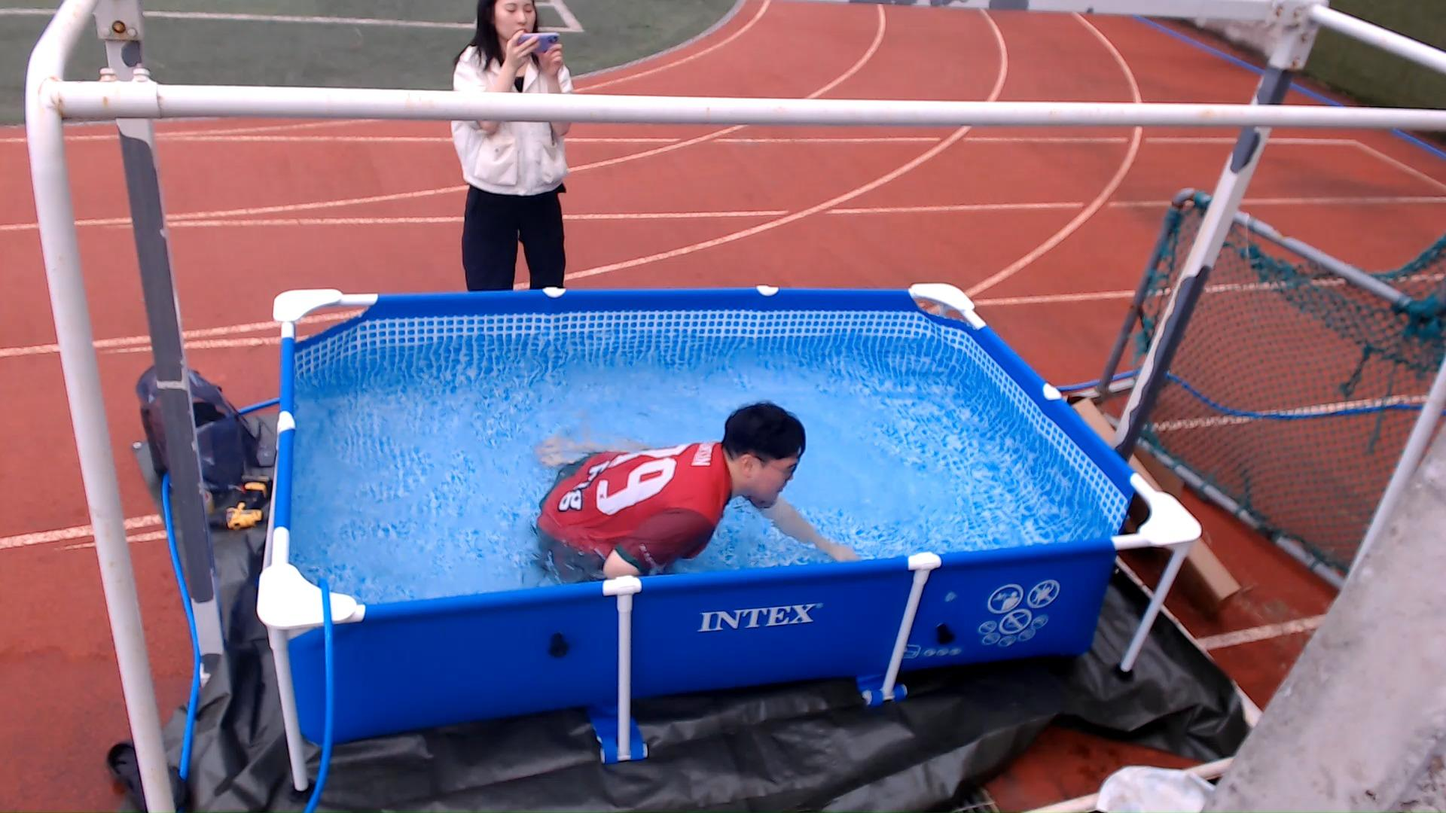Person-out-of-water: (399, 6, 659, 295)
Swimming: (503, 371, 865, 601)
